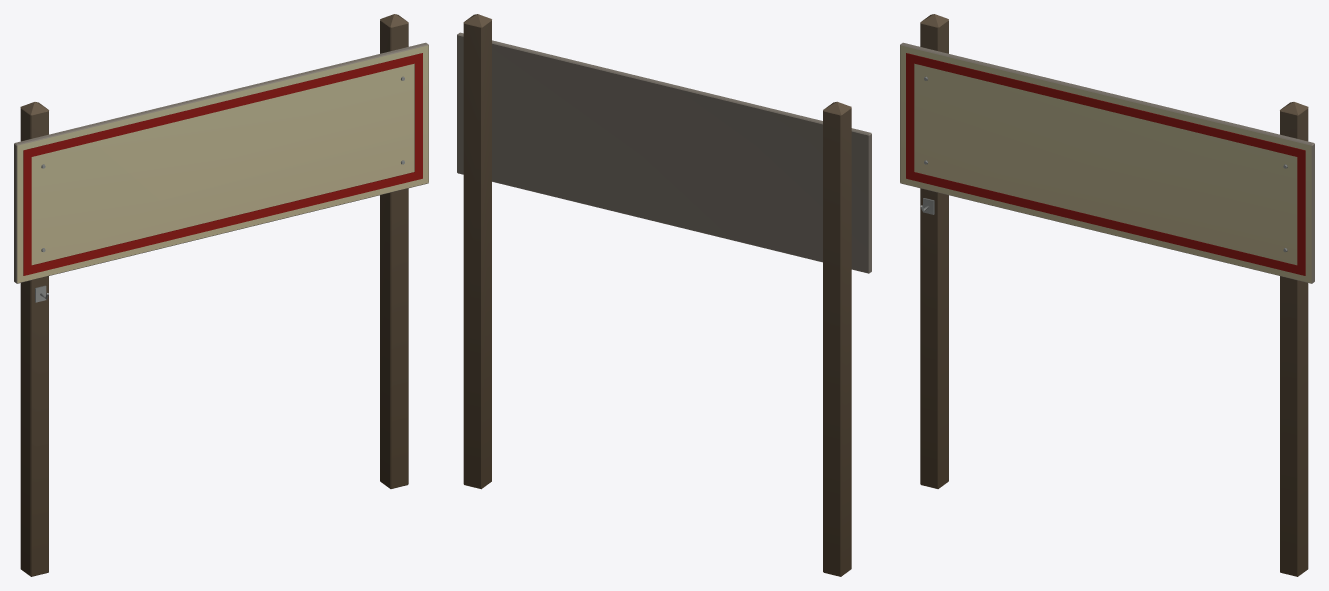
Rendered from boat_launch_sign.glb.
The picture shows the model from 3 angles, left to right: view 1: azimuth 30°, elevation 25°; view 2: azimuth 150°, elevation 25°; view 3: azimuth 330°, elevation 25°; orthographic projection.
Visible parts, largest first — view 1: boat_launch_sign_board_LOD0, boat_launch_sign_posts_LOD0; view 2: boat_launch_sign_board_LOD0, boat_launch_sign_posts_LOD0; view 3: boat_launch_sign_board_LOD0, boat_launch_sign_posts_LOD0.
Part boxes in pixels (x1,y1,x2,y2): boat_launch_sign_board_LOD0: [14, 42, 428, 283]; boat_launch_sign_posts_LOD0: [20, 14, 408, 576]; boat_launch_sign_board_LOD0: [457, 32, 871, 273]; boat_launch_sign_posts_LOD0: [463, 14, 851, 576]; boat_launch_sign_board_LOD0: [900, 42, 1314, 283]; boat_launch_sign_posts_LOD0: [920, 14, 1308, 576].
Size of what is drawn, in the model's own units: 3.1 by 3.37 by 0.2462.
